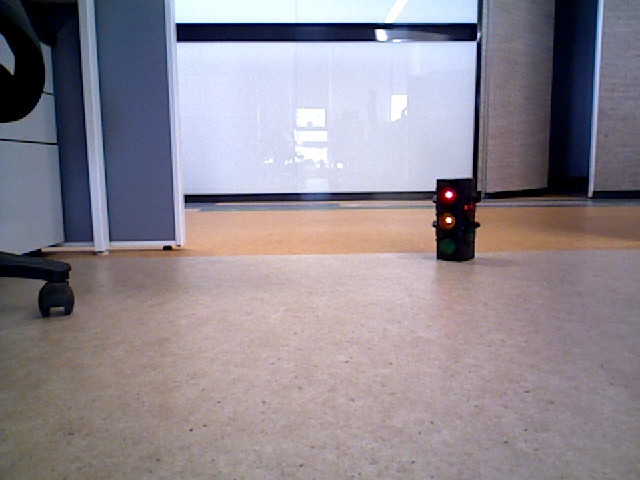red: (438, 178, 471, 261)
